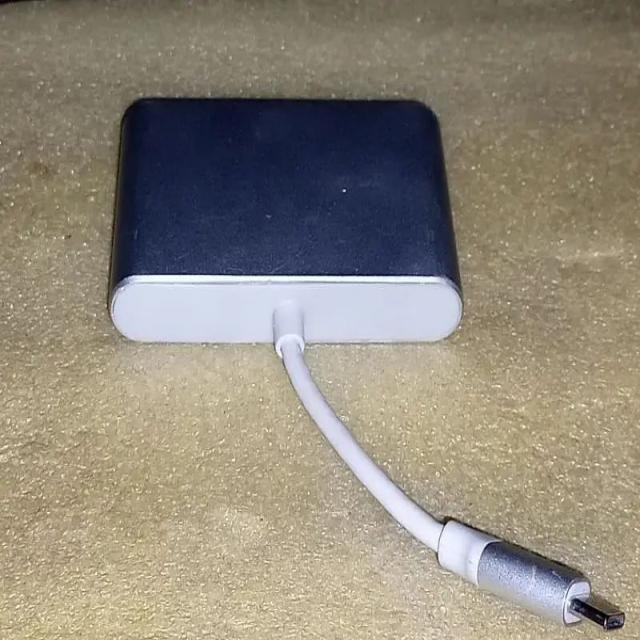electronic: (61, 46, 640, 640), (106, 94, 464, 347)
